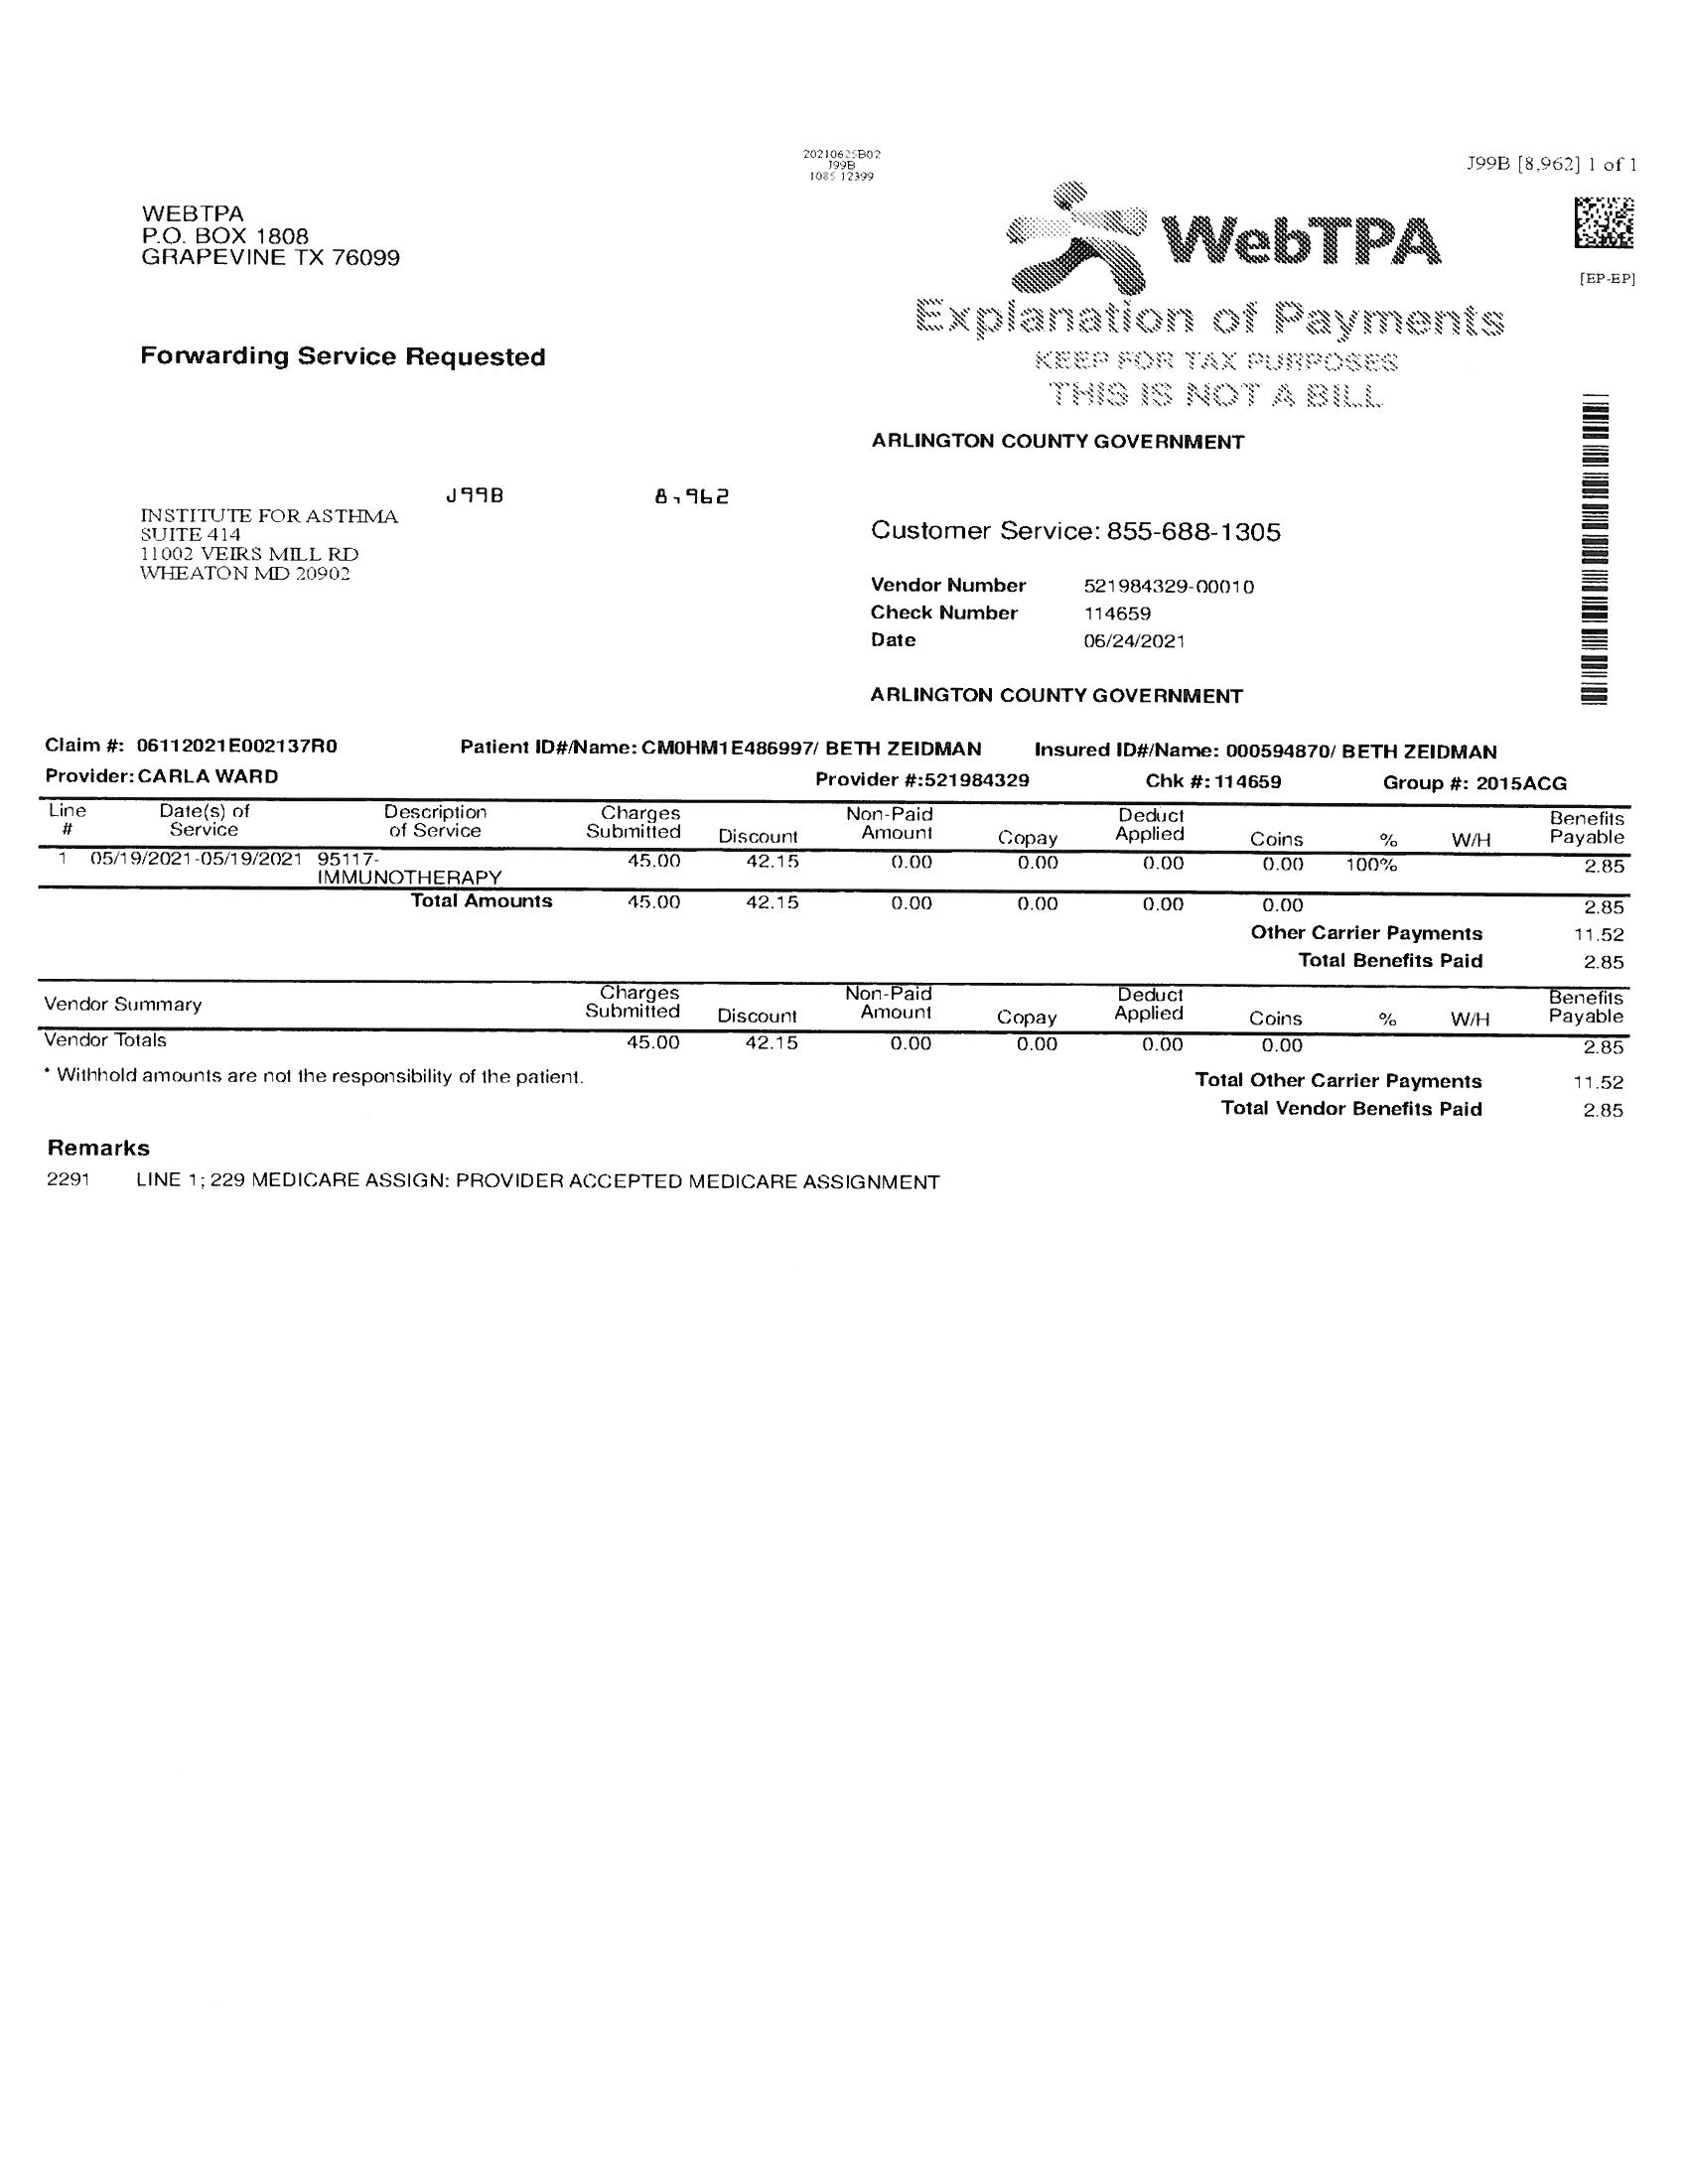data: (856, 496, 1294, 674), (124, 484, 411, 610)
table: (27, 721, 1642, 929), (32, 963, 1649, 1127)
